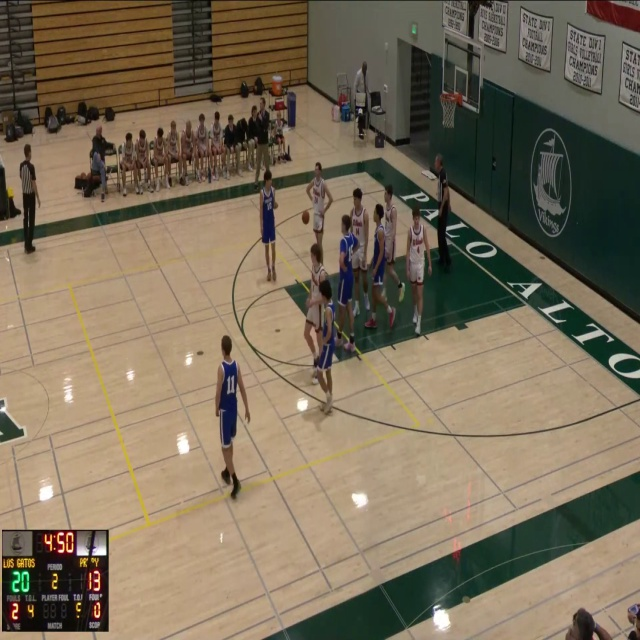Basketball: (301, 210, 309, 224)
